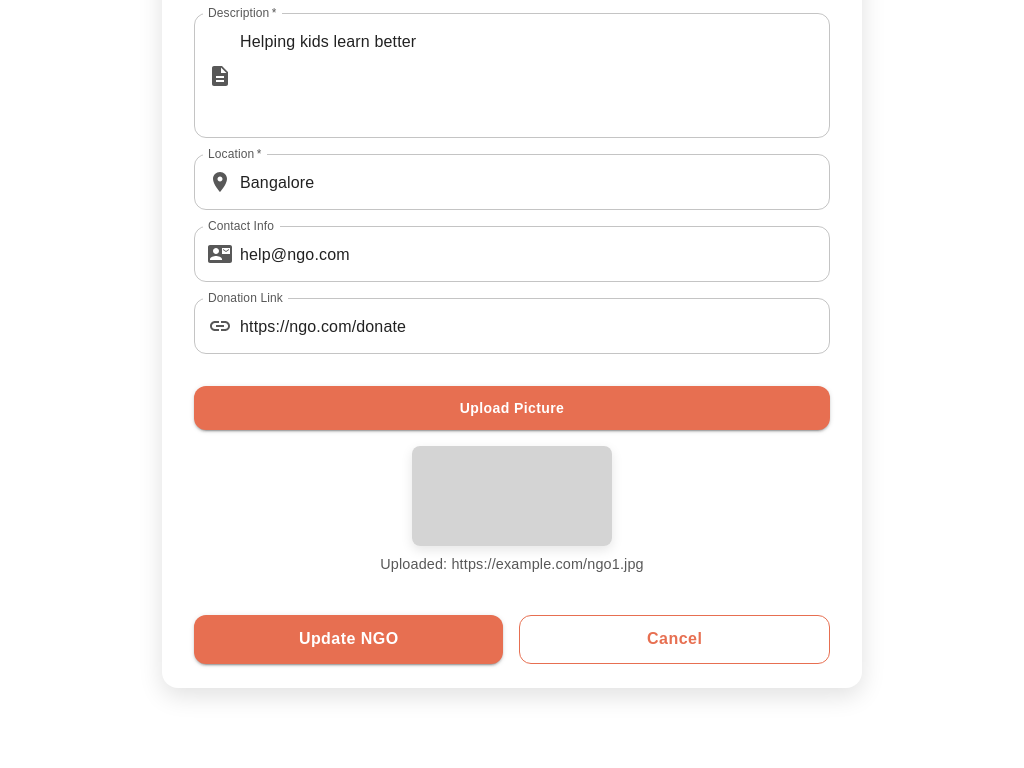
🏢 Add_NGO Component › shows error when update NGO fails
(page scrolled)
Click the button "Update NGO".
click(349, 639)  # box [194,615,504,664]
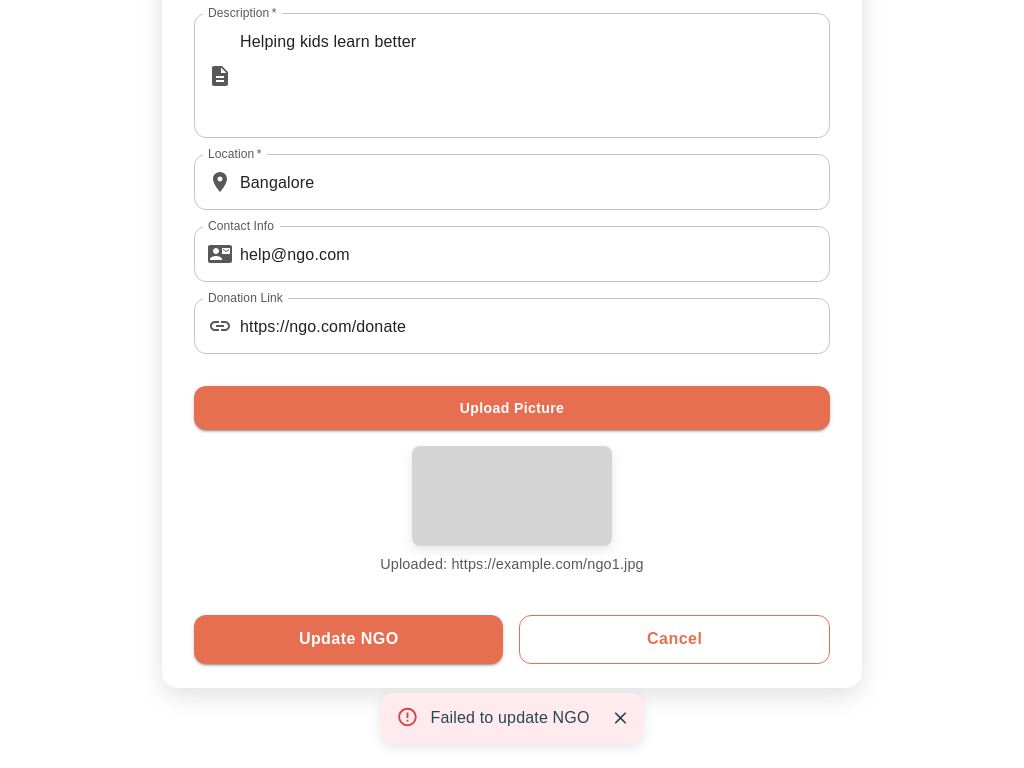
Expected: the text "Failed to update NGO" is shown, [430,709,590,726]
